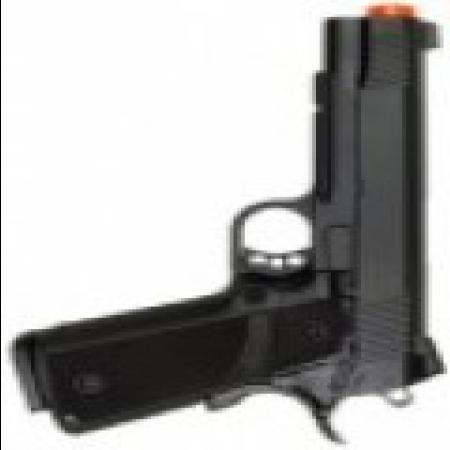Pistol: (19, 6, 447, 438)
